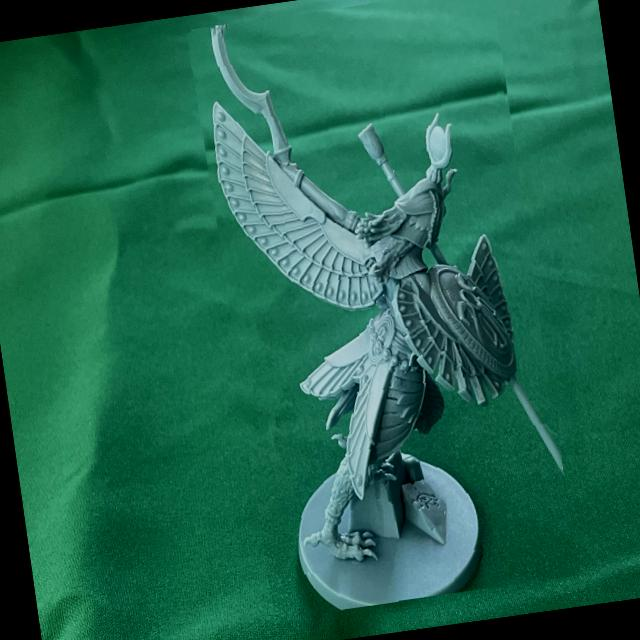isis: (188, 0, 577, 620)
